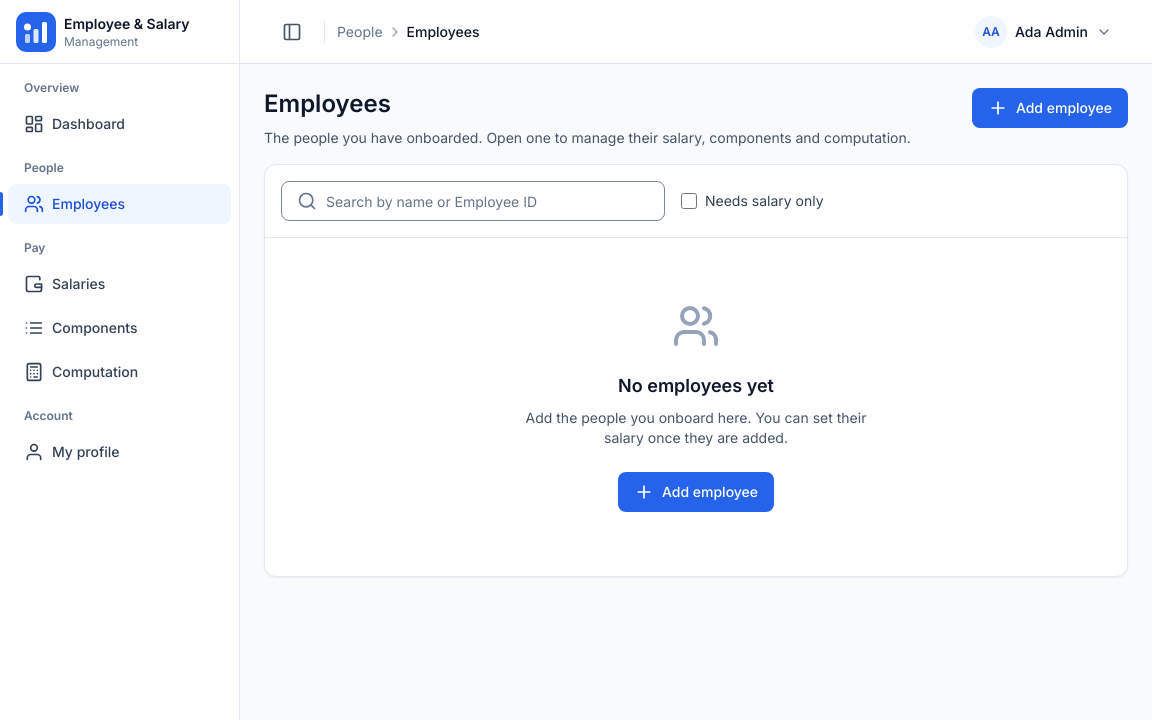
UserMenu › closes on a click outside, without stealing focus back
This screenshot has width=1152, height=720.
Expected: the heading "Employees" is shown, [264, 89, 391, 118]
Step 1. Click the button with aria-label "Account menu, Ada Admin" → x=1046, y=32, box [971, 12, 1120, 52]
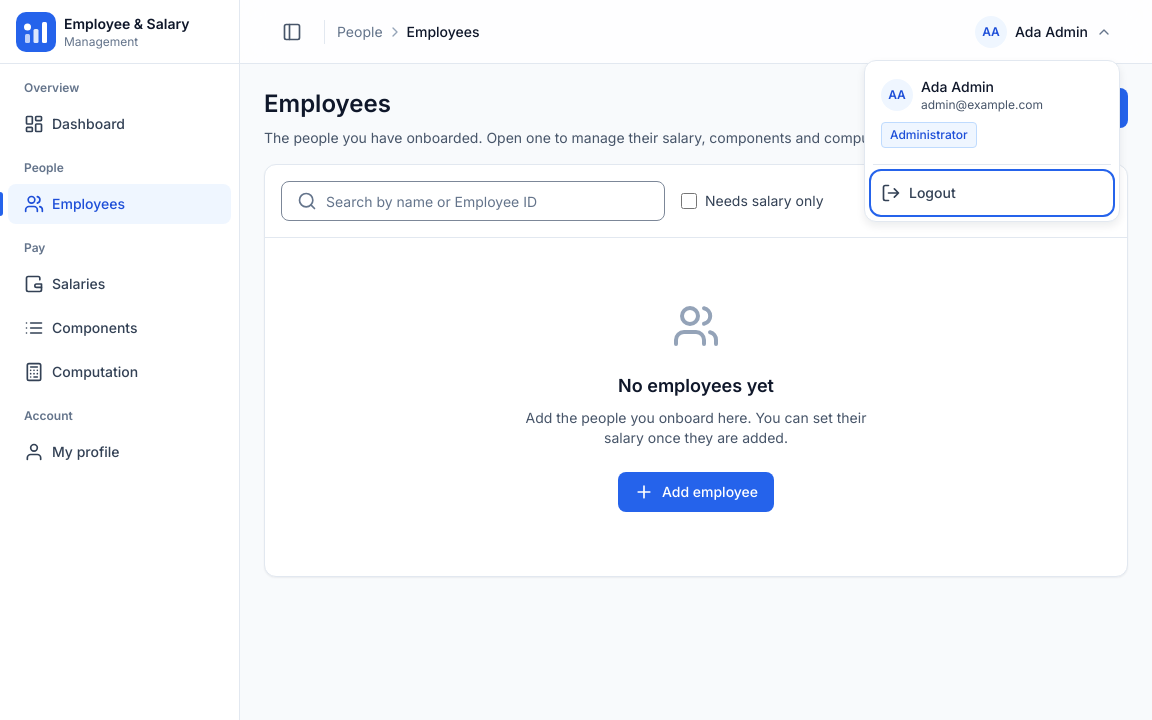
Step 2. Click the heading "Employees" → x=327, y=104, box [264, 89, 391, 118]
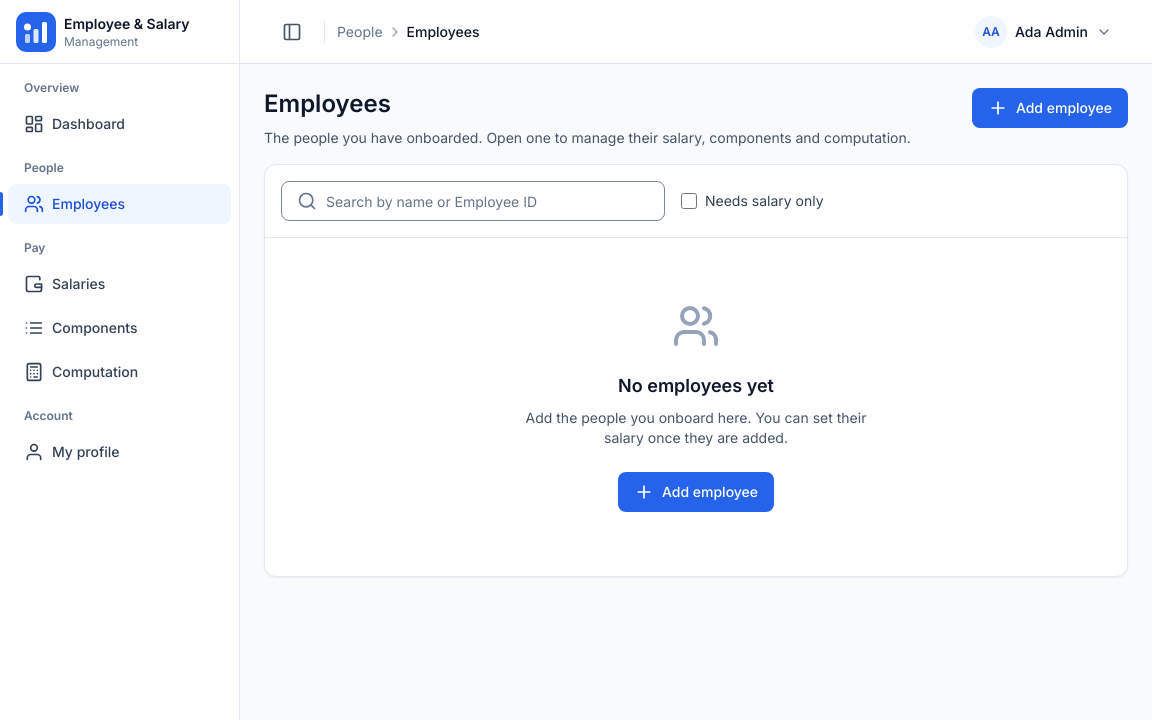
Expected: the menu is gone
